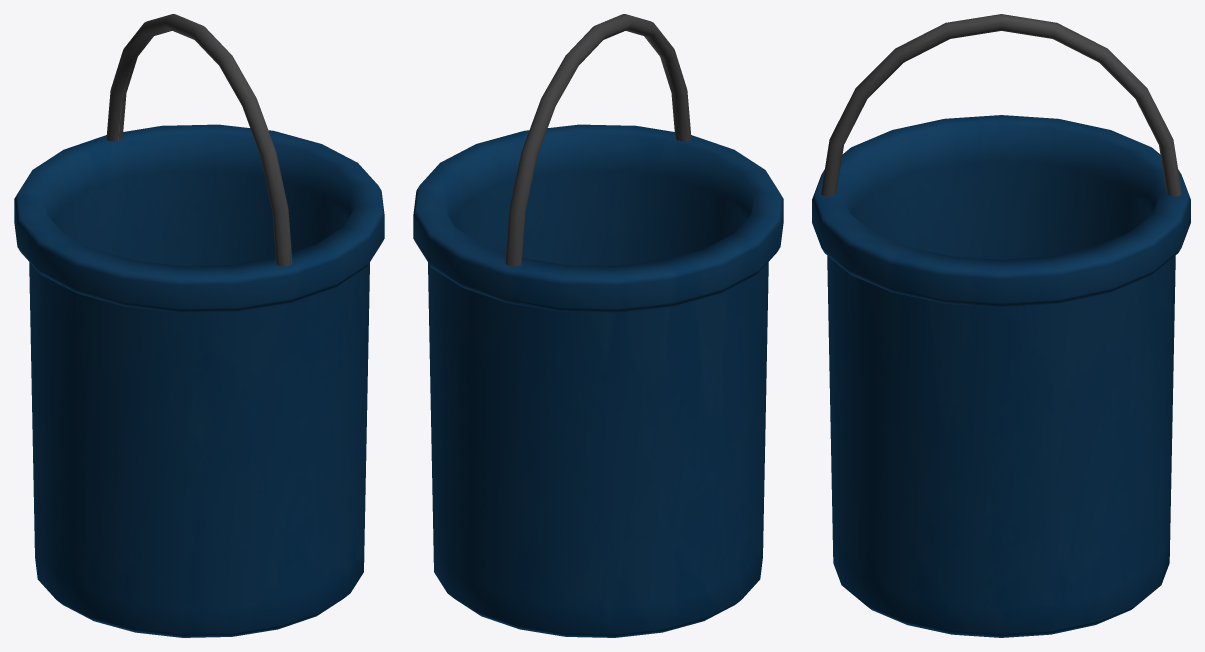
Rendered from SM_Bucket1.fbx.
3 views of the same model, side by side, from view 1: azimuth 30°, elevation 25°; view 2: azimuth 150°, elevation 25°; view 3: azimuth 270°, elevation 25° (orthographic).
Parts seen in each view (by area): view 1: Bucket1; view 2: Bucket1; view 3: Bucket1.
Boxes of the visible parts, x1,y1,x2,y2 form: Bucket1: (14,14,384,637); Bucket1: (413,14,783,637); Bucket1: (812,14,1190,637).
Size of the model in its own units: 33.23 by 54.02 by 33.23.
1 material, 1 textured.
